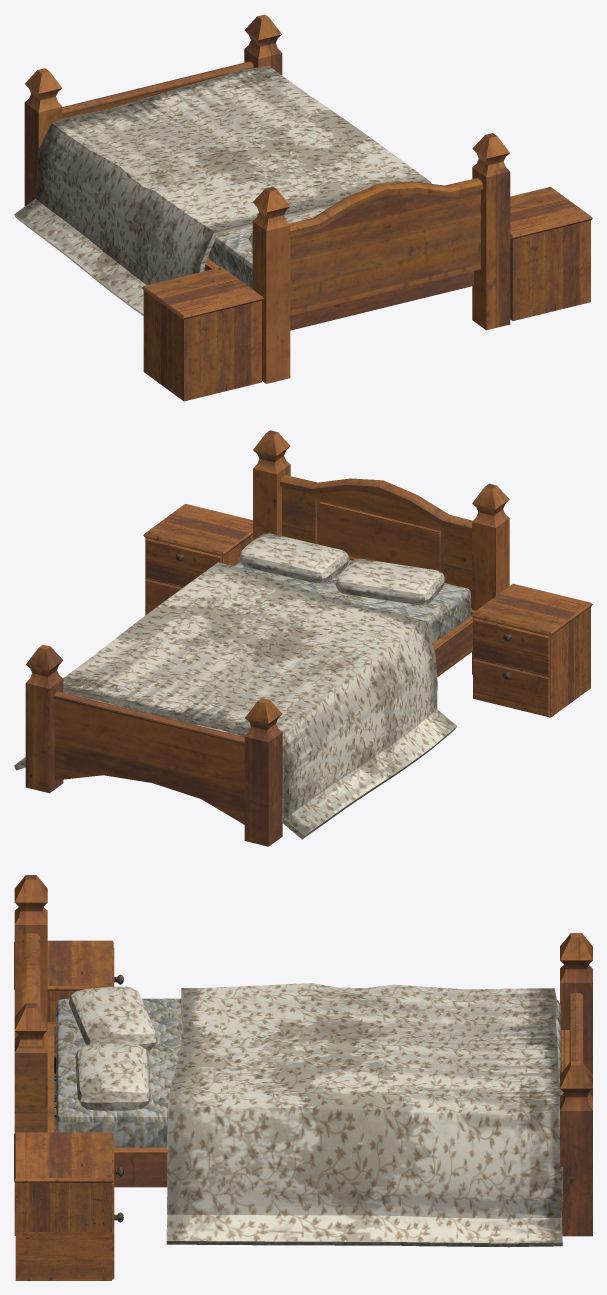
File: bed-m.obj
3 renders of one model, top to bottom at view 1: azimuth 30°, elevation 25°; view 2: azimuth 150°, elevation 25°; view 3: azimuth 270°, elevation 25°, orthographic. The views are drawn at different scales.
Parts seen in each view (by area): view 1: Mesh; view 2: Mesh; view 3: Mesh.
Boxes of the visible parts, bbox=[...] form: Mesh: bbox=[14, 14, 592, 401]; Mesh: bbox=[14, 430, 592, 846]; Mesh: bbox=[14, 875, 592, 1280].
Bounding box in the file's own units: 27.98 × 12.32 × 28.63.
Materials: 1 (1 with a texture image).
